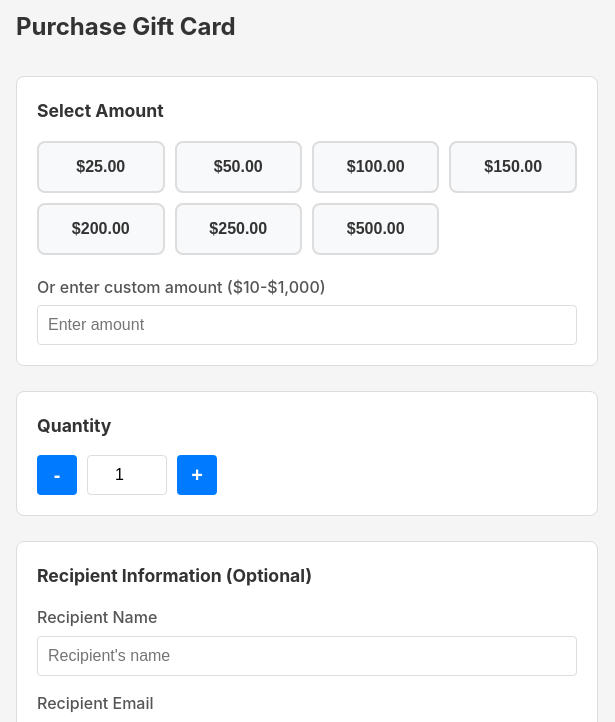
GiftCardPurchase › should change quantity
Click the button "+": (197, 475) [177,455,217,495]
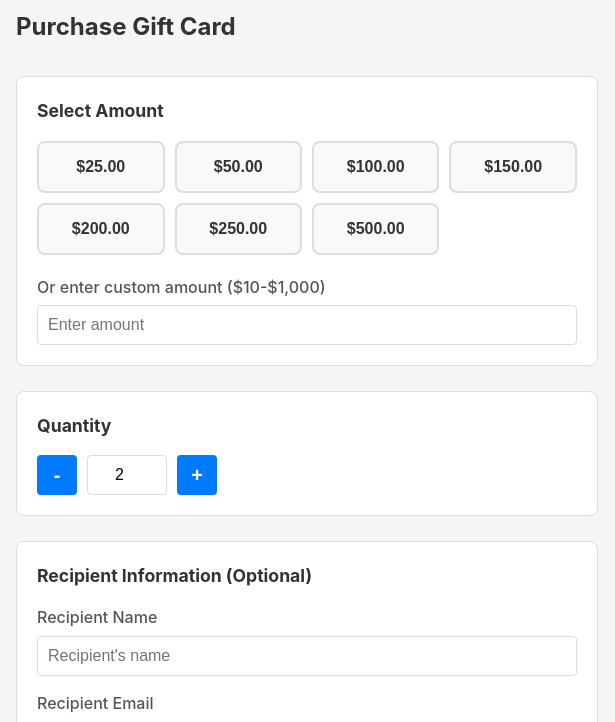
Check: the number field showing "2" is shown, box [87,455,167,495]
